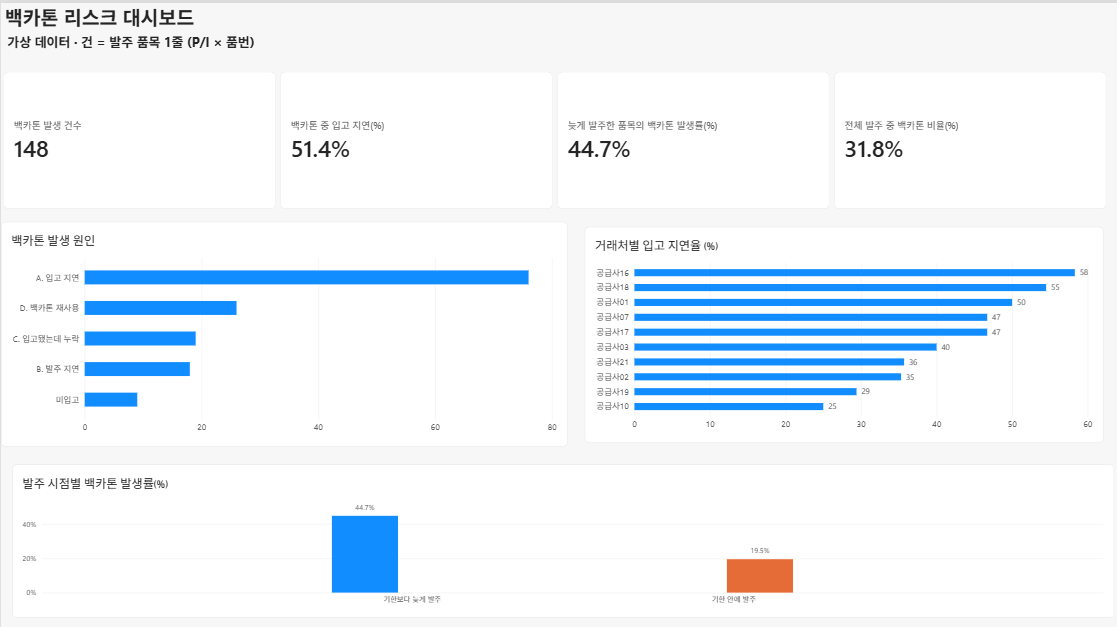

The page's visual inventory and layout, read from the dashboard file:
{"tool":"powerbi","page":{"name":"1 페이지","canvas":[1920,1080],"ordinal":0},"visuals":[{"type":"cardVisual","fields":{"Data":["bc_lines.백카톤 줄수","bc_lines.입고지연 비율","bc_lines.늦은발주 백카톤비율","bc_lines.발주중 백카톤비중"]},"box":[3.3,113.6,1817.5,226.8],"z":0},{"type":"clusteredBarChart","title":"백카톤 발생 원인","fields":{"Category":["bc_lines.bc_cause"],"Y":["bc_lines.백카톤 줄수"]},"box":[0,360.2,932.4,370.5],"z":1},{"type":"clusteredBarChart","title":"거래처별 입고 지연율 (%)","fields":{"Category":["supplier_summary.supplier"],"Y":["Sum(supplier_summary.late_rate_pct)"]},"box":[960.4,368.4,854.2,356.1],"z":2},{"type":"clusteredColumnChart","title":"발주 시점별 백카톤 발생률(%)","fields":{"Category":["order_timing.발주시점"],"Series":["order_timing.발주시점"],"Y":["order_timing.백카톤 비율"]},"box":[18.5,758.7,1814.2,253.2],"z":3},{"type":"textbox","box":[5.8,0,358.1,65],"z":4},{"type":"textbox","box":[10.3,47.3,480.8,32.1],"z":5}]}

Visuals, with their boxes in screenshot pixels (x1, y1, x2, y2), scaled from the page's 1920x1080 canvas onto the 1117x627 screenshot:
cardVisual - bc_lines.백카톤 줄수 x bc_lines.입고지연 비율: 2 66 1059 198
"백카톤 발생 원인" clusteredBarChart: 0 209 542 424
"거래처별 입고 지연율 (%)" clusteredBarChart: 559 214 1056 421
"발주 시점별 백카톤 발생률(%)" clusteredColumnChart: 11 440 1066 587
textbox: 3 0 212 38
textbox: 6 27 286 46
